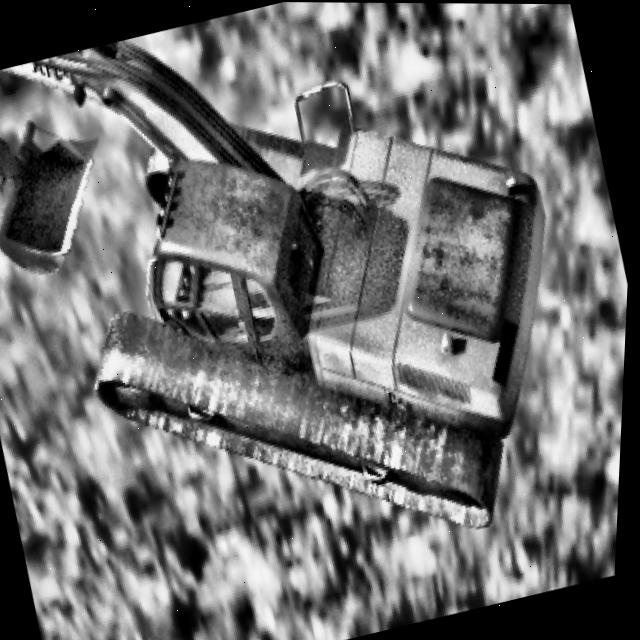excavator: (0, 0, 622, 634)
